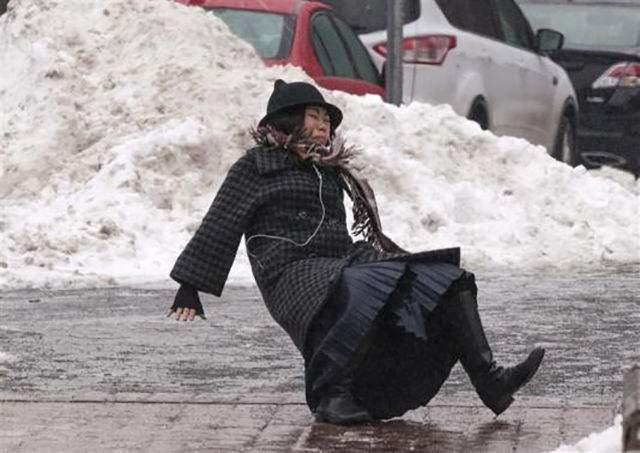down: (162, 71, 553, 444)
